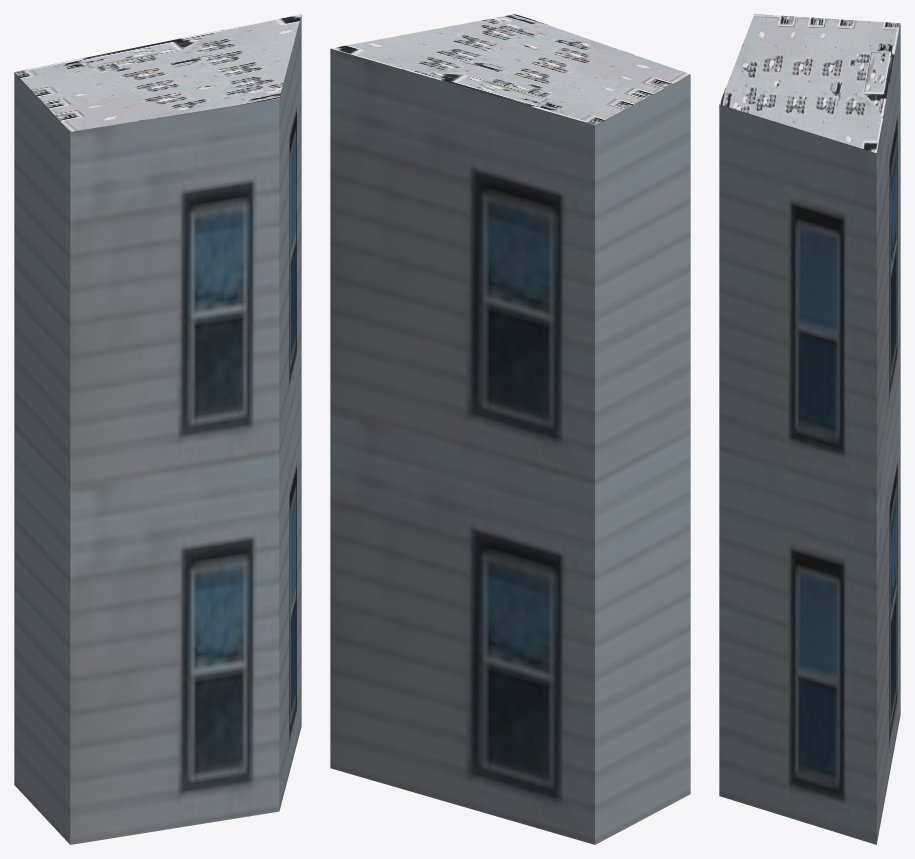
The model's file is ResTex__5307.fbx.
3 views of the same model, side by side, from view 1: azimuth 30°, elevation 25°; view 2: azimuth 150°, elevation 25°; view 3: azimuth 270°, elevation 25° (orthographic). The views are drawn at different scales.
Visible parts, largest first — view 1: CityEngineMaterial_18_m, CityEngineMaterial_2_m; view 2: CityEngineMaterial_18_m, CityEngineMaterial_2_m; view 3: CityEngineMaterial_18_m, CityEngineMaterial_2_m.
Part boxes in pixels (box(x1,y1,x2,y2)): CityEngineMaterial_18_m: box(14, 14, 301, 844); CityEngineMaterial_2_m: box(15, 14, 301, 131); CityEngineMaterial_18_m: box(330, 48, 690, 844); CityEngineMaterial_2_m: box(330, 14, 690, 124); CityEngineMaterial_18_m: box(719, 24, 900, 844); CityEngineMaterial_2_m: box(719, 14, 900, 152).
Bounding box in the file's own units: 2.59 × 6 × 1.42.
Materials: 2 (2 with a texture image).
